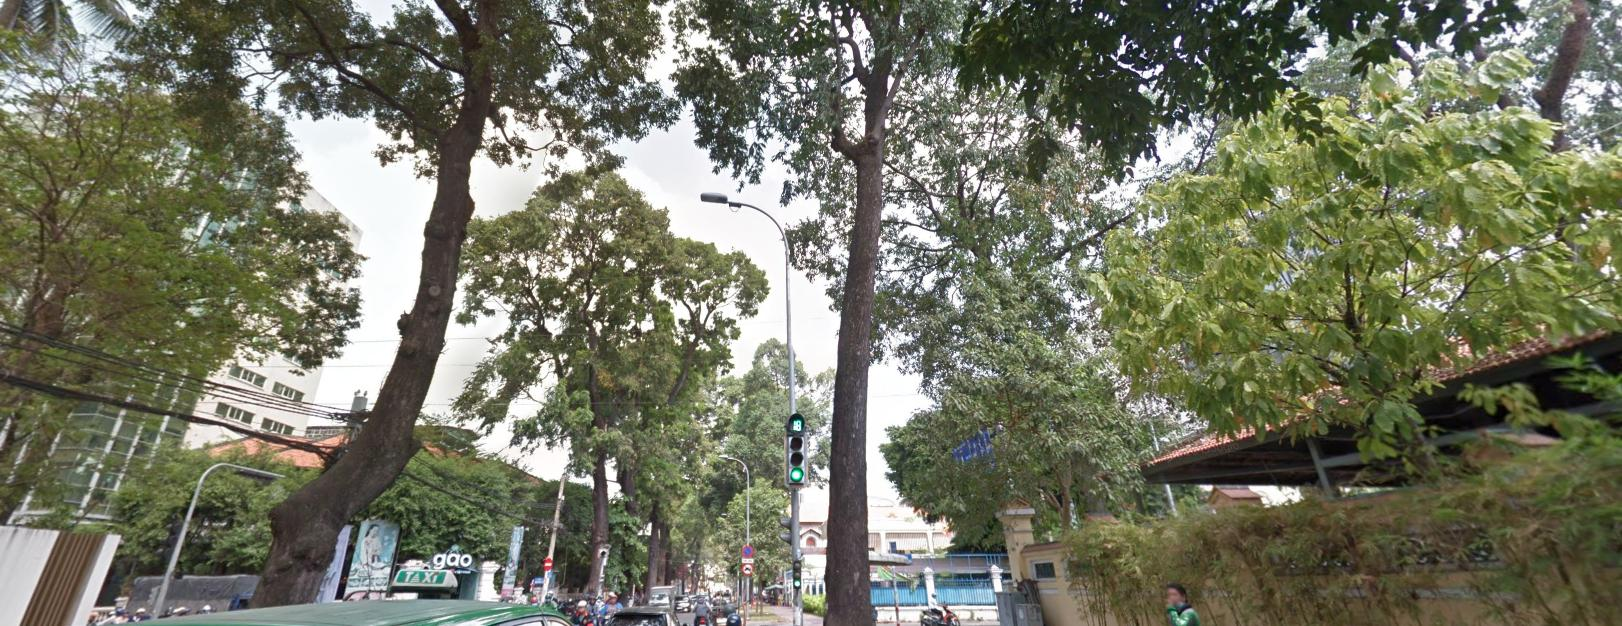Cam con lai: (742, 563, 753, 574)
Cam dung va do: (741, 544, 752, 556)
Cam nguoc chieu: (544, 557, 552, 569)
